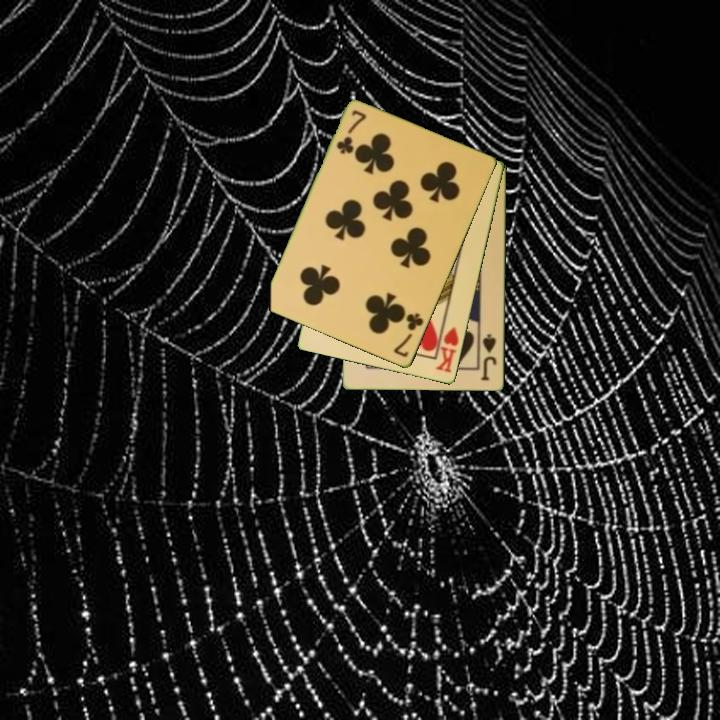7c: (390, 309, 427, 361), (333, 107, 369, 157)
Js: (478, 331, 500, 383)
Kh: (432, 319, 462, 376)
